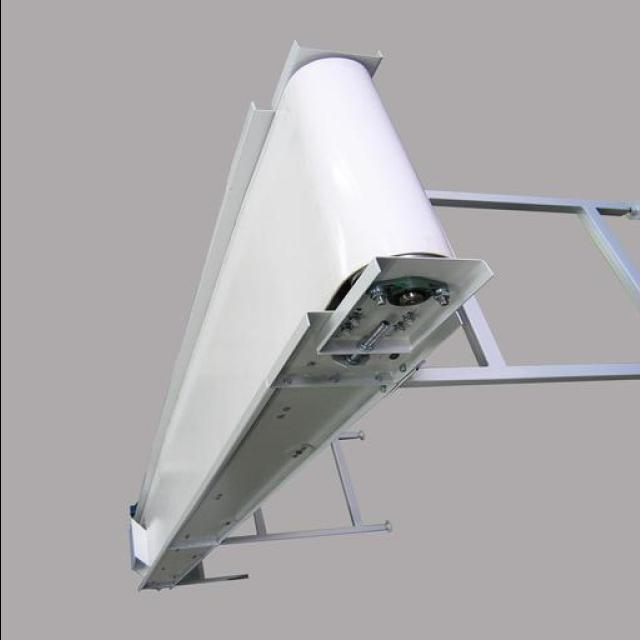conveyor: (142, 60, 467, 578)
